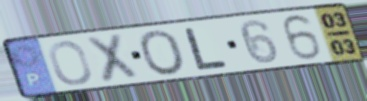6: (281, 12, 325, 62), (238, 18, 282, 66)
L: (182, 26, 231, 72)
O: (136, 28, 189, 77), (47, 39, 95, 87)
X: (83, 31, 142, 85)
